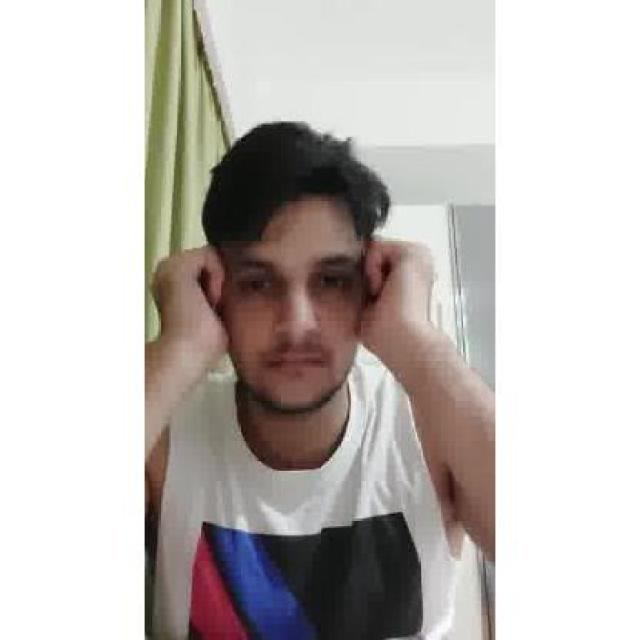attentif: (202, 120, 367, 414)
